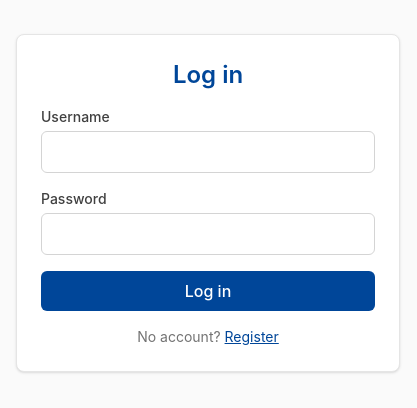
Test: LoginPage › shows an error message on failed login
In the field labelled "Username": coordinates (208, 152) [41, 131, 375, 173], type "denis"
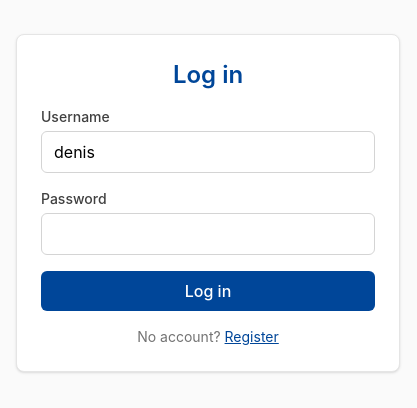
In the password field labelled "Password": coordinates (208, 234) [41, 213, 375, 255], type "wrong"
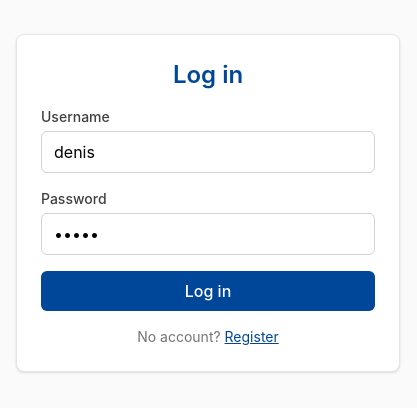
Click the button "Log in": coordinates (208, 291) [41, 271, 375, 311]
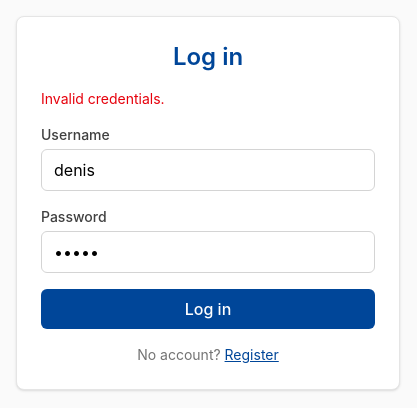
Now the text "Invalid credentials." is shown, box [41, 90, 165, 107]
